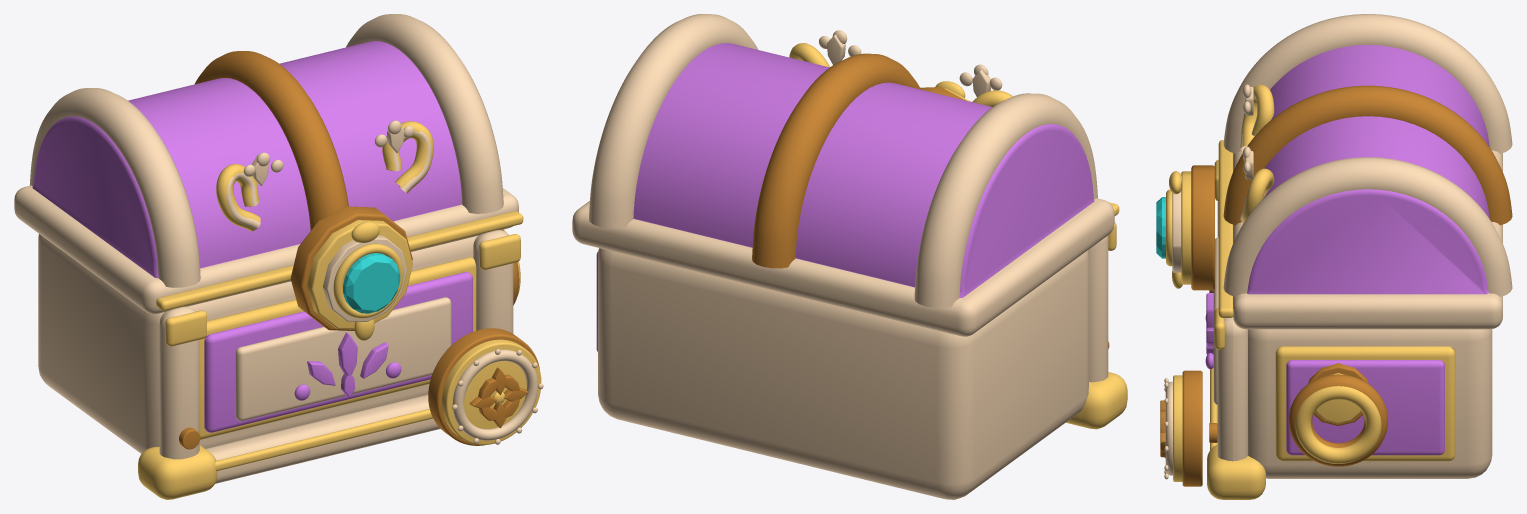
The model's file is treasury-model.glb.
The picture shows the model from 3 angles, left to right: view 1: azimuth 30°, elevation 25°; view 2: azimuth 150°, elevation 25°; view 3: azimuth 270°, elevation 25°; orthographic projection. The views are drawn at different scales.
Parts seen in each view (by area): view 1: Purple Barrel Lid, Chest Lower Body, Front Cream Relief Panel, Outer Cream Arch -1, Lid Seam Beam, Outer Cream Arch 1, Central Dark Gold Lid Strap, Front Purple Recess, Lower Cream Rail, Cream Corner Post -1, Front Gold Recess Frame, Front Seam Gold Line (+17 smaller); view 2: Chest Lower Body, Purple Barrel Lid, Lid Seam Beam, Outer Cream Arch -1, Outer Cream Arch 1, Central Dark Gold Lid Strap, Cream Corner Post -1, Gold Corner Foot -1; view 3: Purple Barrel Lid, Chest Lower Body, Outer Cream Arch 1, Central Dark Gold Lid Strap, Outer Cream Arch -1, Lid Seam Beam, Right Purple Recess, Right Gold Recess Frame, Cream Corner Post 1, Side Handle Ring, Lock Outer Shield, Side Handle Ring Dark (+14 smaller).
Part boxes in pixels (box(x1,y1,x2,y2)): Purple Barrel Lid: box(32, 41, 461, 278); Chest Lower Body: box(38, 234, 477, 453); Front Cream Relief Panel: box(235, 297, 451, 421); Outer Cream Arch -1: box(29, 88, 200, 287); Lid Seam Beam: box(14, 185, 518, 314); Outer Cream Arch 1: box(346, 14, 503, 213); Central Dark Gold Lid Strap: box(195, 51, 348, 230); Front Purple Recess: box(204, 272, 472, 432); Lower Cream Rail: box(206, 394, 440, 483); Cream Corner Post -1: box(159, 306, 199, 459); Front Gold Recess Frame: box(199, 257, 476, 439); Front Seam Gold Line: box(156, 211, 523, 310); Chest Lower Body: box(598, 248, 1088, 499); Purple Barrel Lid: box(633, 43, 1094, 297); Lid Seam Beam: box(572, 198, 1114, 336); Outer Cream Arch -1: box(914, 93, 1097, 308); Outer Cream Arch 1: box(589, 14, 758, 228); Central Dark Gold Lid Strap: box(752, 53, 920, 268); Cream Corner Post -1: box(1088, 235, 1108, 382); Gold Corner Foot -1: box(1066, 372, 1127, 429); Purple Barrel Lid: box(1247, 45, 1489, 294); Chest Lower Body: box(1248, 329, 1492, 478); Outer Cream Arch 1: box(1223, 157, 1512, 296); Central Dark Gold Lid Strap: box(1223, 85, 1512, 225); Outer Cream Arch -1: box(1223, 14, 1512, 153); Lid Seam Beam: box(1233, 150, 1502, 329); Right Purple Recess: box(1286, 360, 1444, 455); Right Gold Recess Frame: box(1275, 346, 1455, 461); Cream Corner Post 1: box(1217, 317, 1247, 461); Side Handle Ring: box(1295, 386, 1381, 463); Lock Outer Shield: box(1191, 165, 1214, 290); Side Handle Ring Dark: box(1288, 374, 1387, 466).
Size of the model in its own units: 3.84 by 3.11 by 3.
